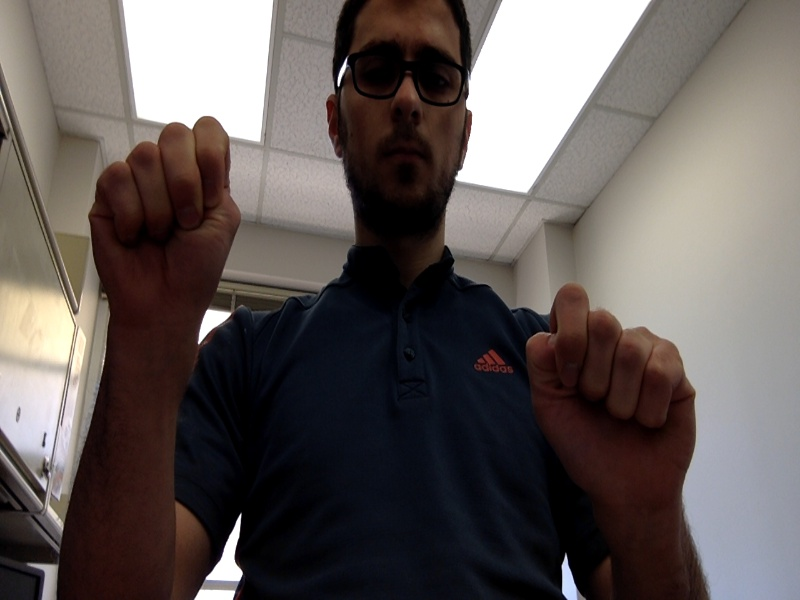0-hand: (526, 287, 696, 512), (90, 118, 241, 318)
